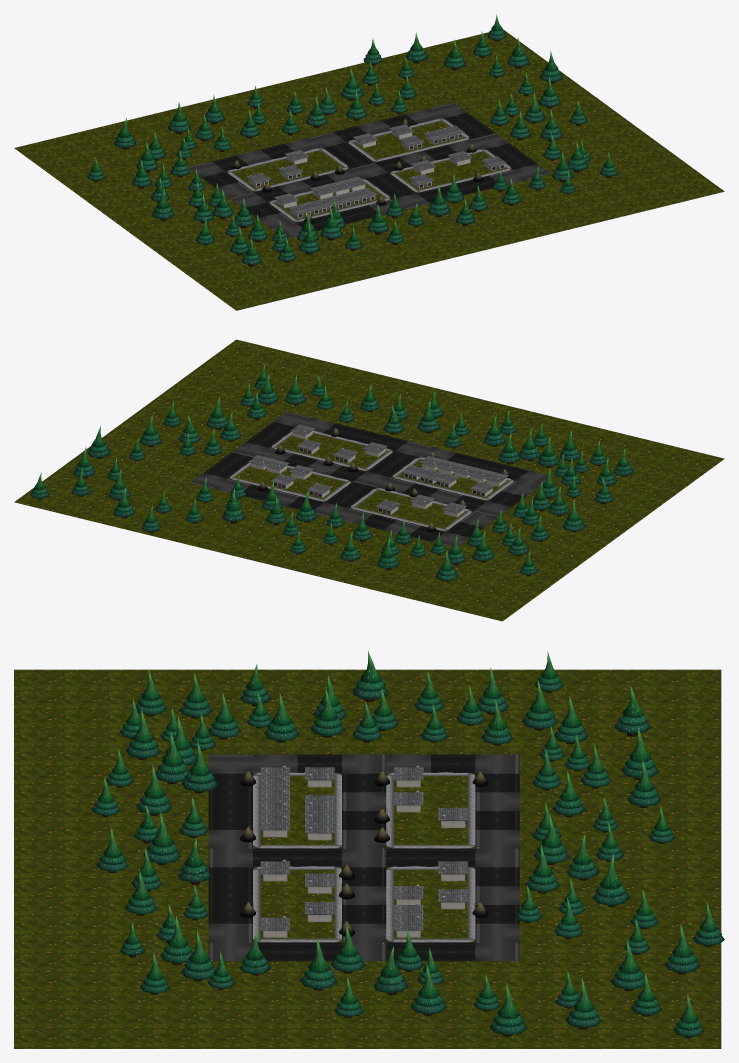
Rendered from gm14_environment_03.FBX.
The picture shows the model from 3 angles, top to bottom: view 1: azimuth 30°, elevation 25°; view 2: azimuth 150°, elevation 25°; view 3: azimuth 270°, elevation 25°; orthographic projection. The views are drawn at different scales.
Visible parts, largest first — view 1: env_main_ground_01, env_road_01, Object002, Object004, Object003, Object001; view 2: env_main_ground_01, env_road_01, Object002, Object004, Object003, Object001; view 3: env_main_ground_01, env_road_01, Object002, Object004, Object003, Object001, env_tree_067, env_tree_075, env_tree_042, env_tree_030, env_tree_023, env_tree_009 (+33 smaller).
Boxes of the visible parts, left/top/right/bottom form: env_main_ground_01: left=14, top=29, right=724, bottom=310; env_road_01: left=188, top=102, right=550, bottom=238; Object002: left=228, top=148, right=347, bottom=191; Object004: left=390, top=149, right=510, bottom=192; Object003: left=349, top=119, right=468, bottom=161; Object001: left=270, top=179, right=389, bottom=221; env_main_ground_01: left=14, top=339, right=724, bottom=621; env_road_01: left=190, top=411, right=553, bottom=546; Object002: left=351, top=488, right=471, bottom=530; Object004: left=272, top=430, right=392, bottom=470; Object003: left=230, top=462, right=350, bottom=501; Object001: left=393, top=457, right=513, bottom=500; env_main_ground_01: left=14, top=669, right=721, bottom=1048; env_road_01: left=208, top=754, right=519, bottom=961; Object002: left=386, top=772, right=475, bottom=848; Object004: left=253, top=866, right=341, bottom=942; Object003: left=386, top=866, right=475, bottom=942; Object001: left=253, top=772, right=341, bottom=848; env_tree_067: left=592, top=854, right=630, bottom=907; env_tree_075: left=489, top=982, right=527, bottom=1036; env_tree_042: left=300, top=937, right=337, bottom=990; env_tree_030: left=143, top=811, right=181, bottom=865; env_tree_023: left=181, top=741, right=218, bottom=793; env_tree_009: left=353, top=651, right=387, bottom=701.
Bounding box in the file's own units: 121 × 7.78 × 95.98.
9 materials, 9 textured.
